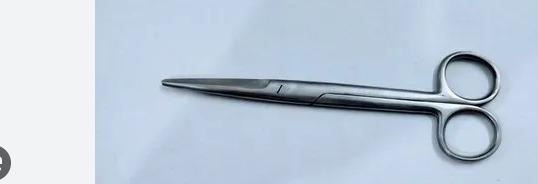Straight Mayo: (158, 47, 507, 166)
